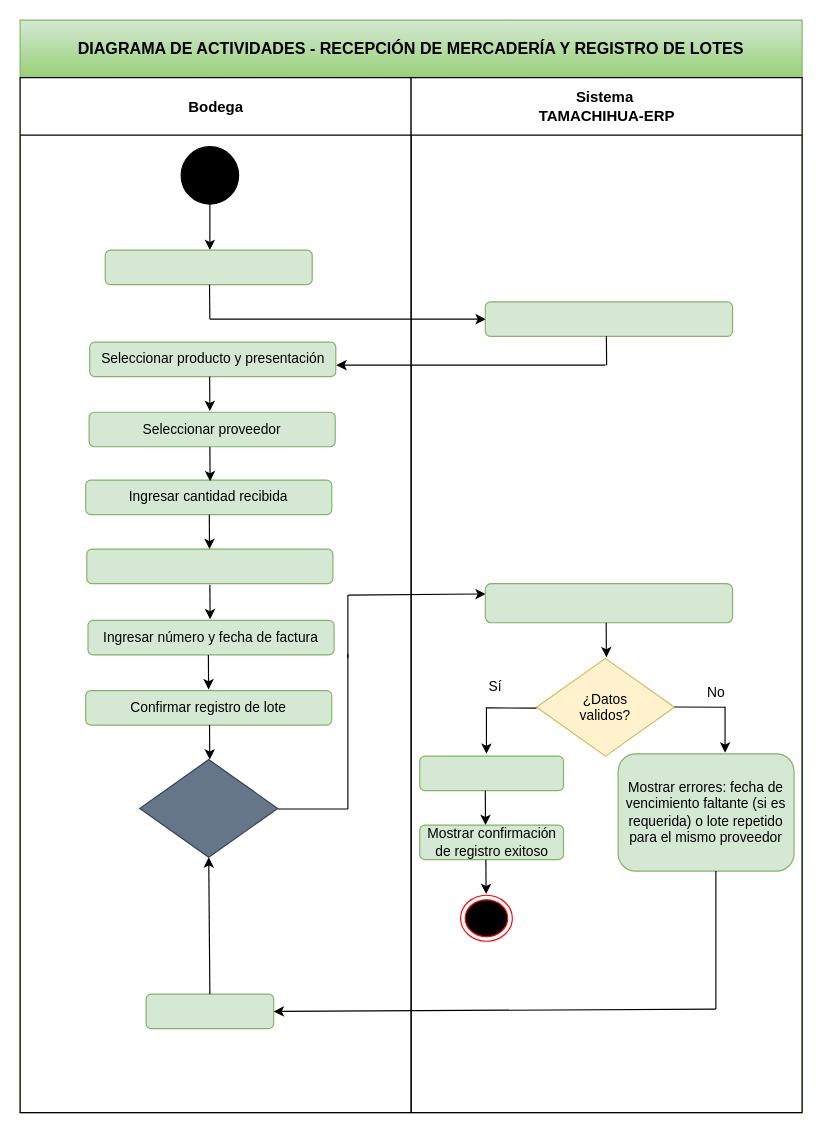
Some shapes in this 822 by 1133 pixel diagram are drawn without their labels. Here are the shapes that lost their labels. From the top down, the centre of each, then its label:
(x=208, y=267): Ingresar al módulo de recepción
(x=608, y=318): Mostrar formulario de registro de lotes
(x=209, y=566): Ingresar costo unitario, número de lote y fechas
(x=608, y=602): Validar datos del lote, vencimiento y duplicados
(x=491, y=773): Guardar lote y actualizar existencias
(x=209, y=1011): Corregir datos del lote
